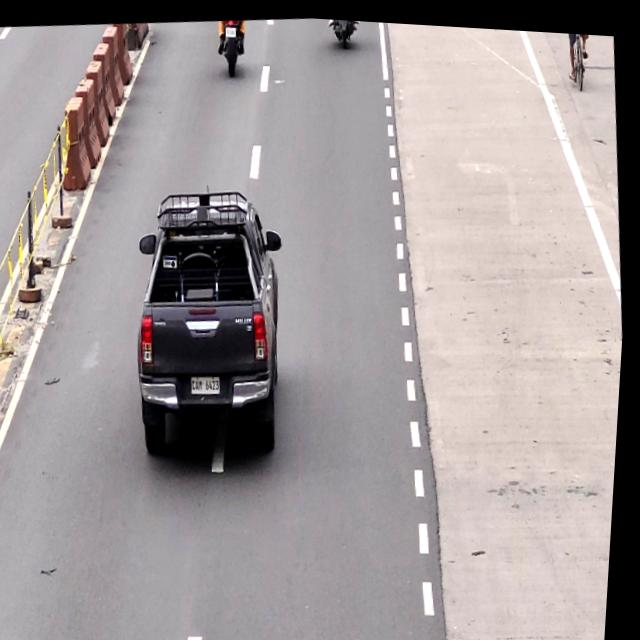Car: (125, 182, 298, 459)
License-Plate: (193, 367, 227, 396)
